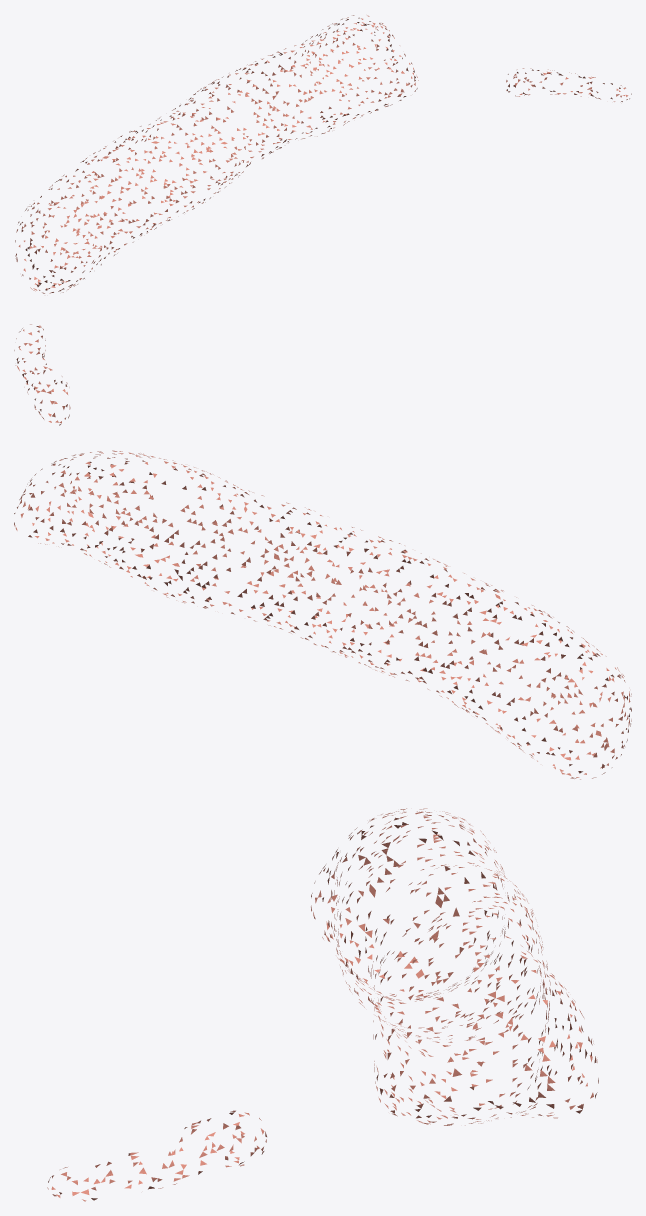
The model's file is morph_002.glb.
3 views of the same model, one above another, from view 1: azimuth 30°, elevation 25°; view 2: azimuth 150°, elevation 25°; view 3: azimuth 270°, elevation 25° (orthographic). The views are drawn at different scales.
Size of the model in its own units: 104 by 32.87 by 47.65.
